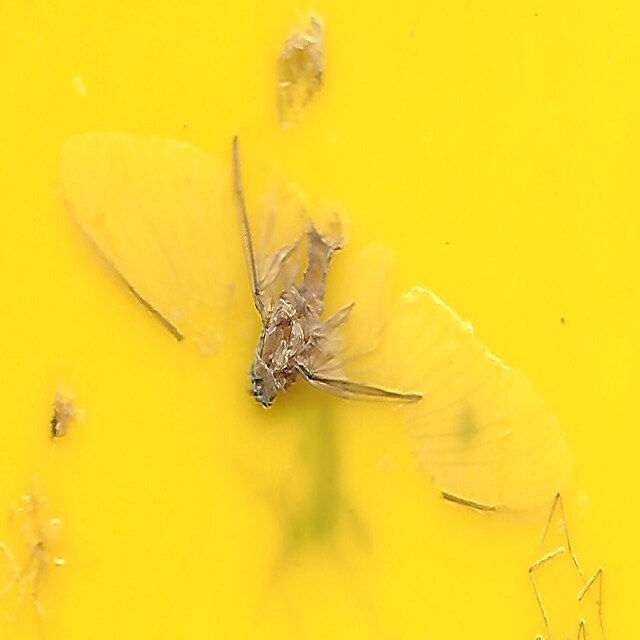Ephemeroptera: (66, 121, 574, 519)
